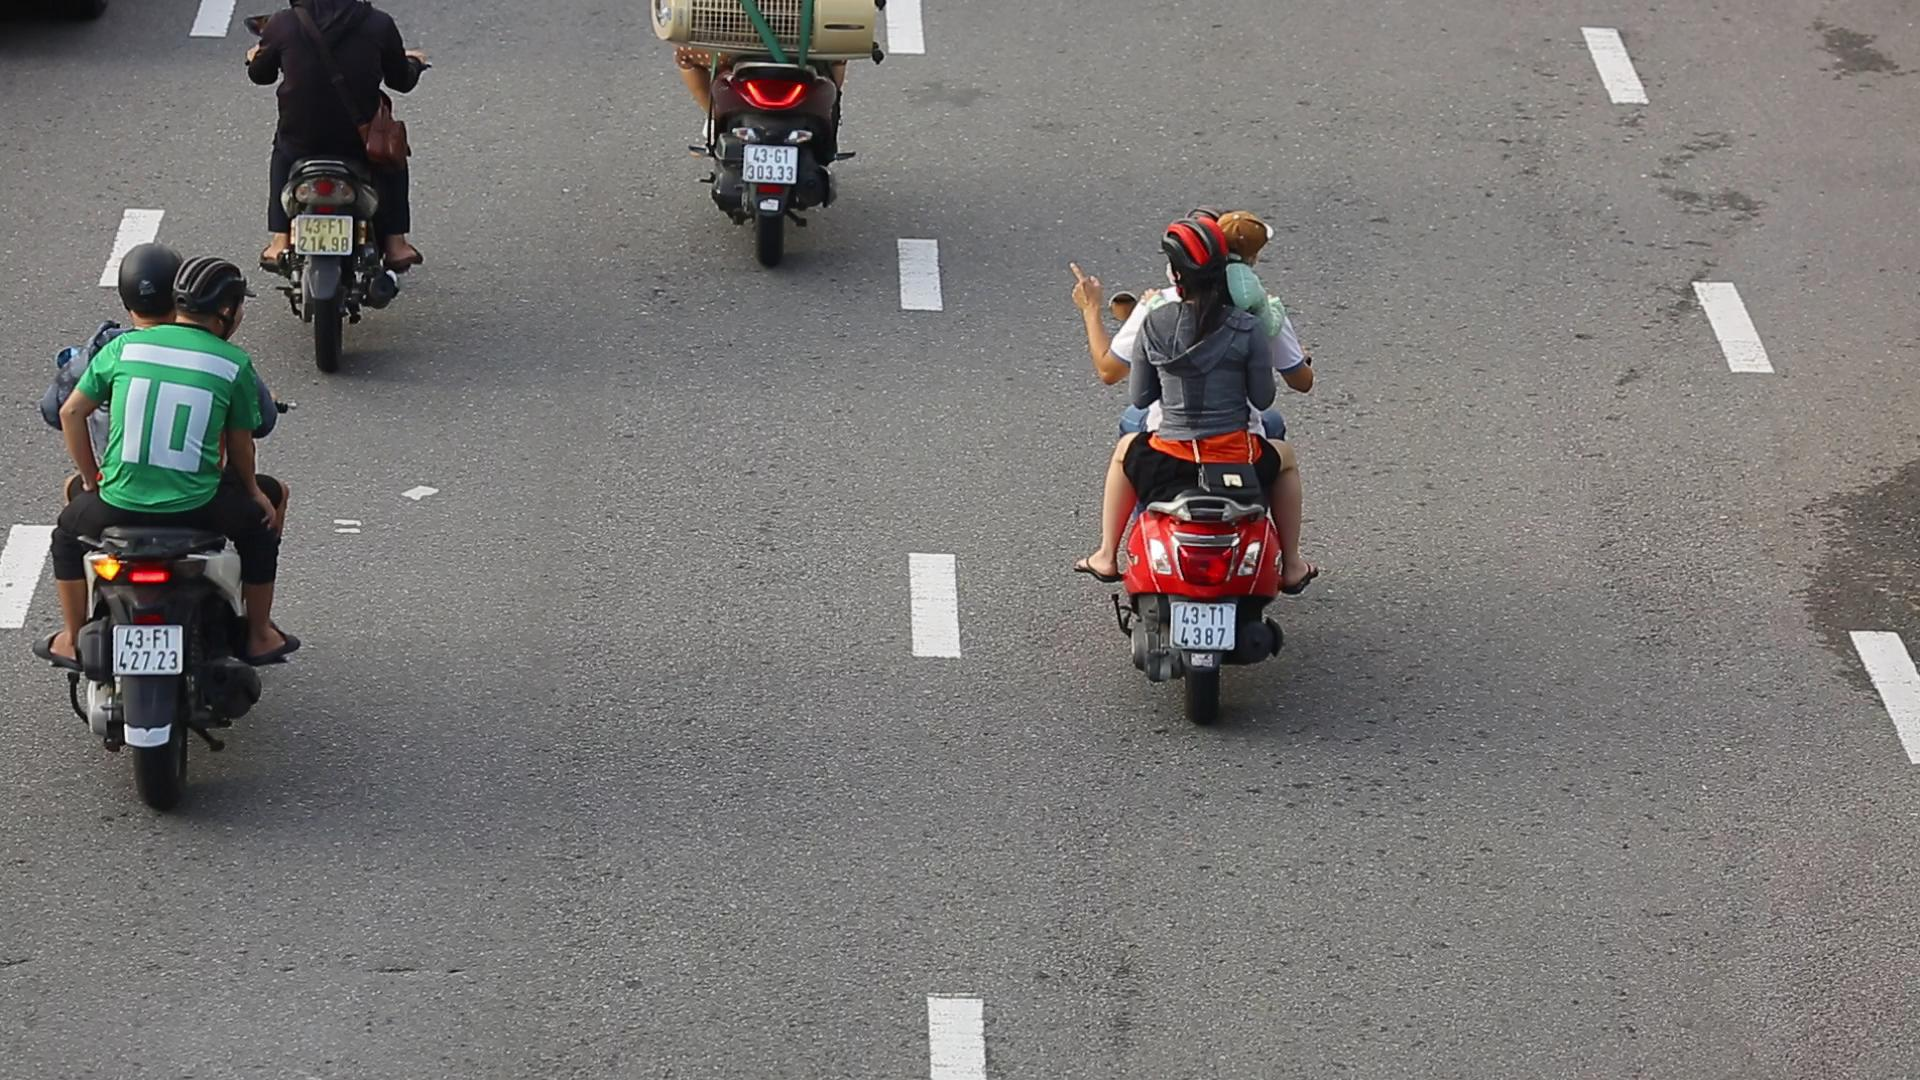motobike: (32, 229, 294, 837), (1068, 179, 1331, 727)
